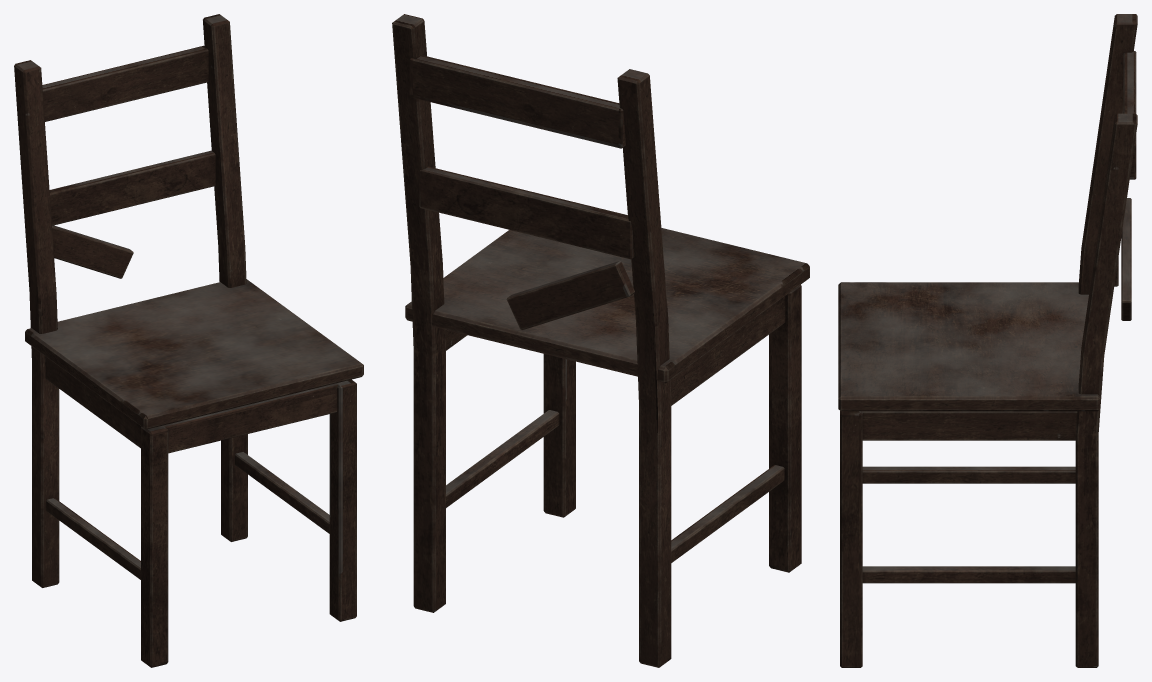
Rendered from Chair_Broken.fbx.
The picture shows the model from 3 angles, left to right: view 1: azimuth 30°, elevation 25°; view 2: azimuth 150°, elevation 25°; view 3: azimuth 270°, elevation 25°; orthographic projection. The views are drawn at different scales.
Parts seen in each view (by area): view 1: Chair_Broken_Mesh; view 2: Chair_Broken_Mesh; view 3: Chair_Broken_Mesh.
Part boxes in pixels (x1,y1,x2,y2): Chair_Broken_Mesh: (14, 14, 363, 667); Chair_Broken_Mesh: (392, 14, 809, 667); Chair_Broken_Mesh: (838, 14, 1137, 667).
Size of the model in its own units: 0.42 by 0.92 by 0.4571.
